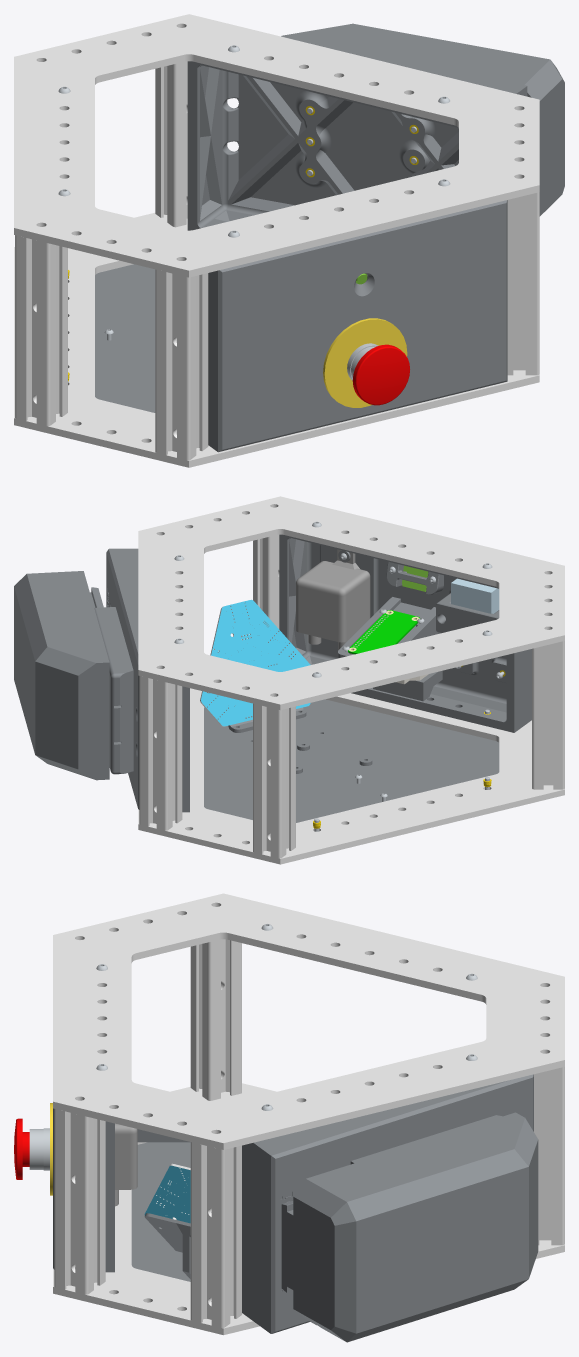
The model's file is Chassi-High-Quality.glb.
The picture shows the model from 3 angles, top to bottom: view 1: azimuth 30°, elevation 25°; view 2: azimuth 150°, elevation 25°; view 3: azimuth 270°, elevation 25°; orthographic projection. The views are drawn at different scales.
Visible parts, largest first — view 1: Part 1.002, Side Plate - EStop, Side Plate - Battery Mount, Part 1.001, battery, Part 2.003, Part 2.001, Bottom Chassis Plate, Part 2.005, Part 2.002, Part 2.006, Part 4; view 2: Part 1.002, Bottom Chassis Plate, Part 1.001, battery, Side Plate - EStop, Part 2.002, Part 2.004, COMPOUND.069, Relay, Side Plate - Battery Mount, Part 2.001, Mounting Surface (+6 smaller); view 3: Part 1.002, battery, Side Plate - Battery Mount, Part 2, Part 2.005, Part 2.001, Part 1.001, Part 2.002, Bottom Chassis Plate, COMPOUND.069, Side Plate - EStop, Relay (+4 smaller).
Boxes of the visible parts, x1,y1,x2,y2 form: Part 1.002: (14, 14, 539, 277); Side Plate - EStop: (208, 200, 507, 452); Side Plate - Battery Mount: (187, 54, 527, 230); Part 1.001: (14, 212, 539, 467); battery: (281, 23, 564, 216); Part 2.003: (155, 269, 208, 460); Part 2.001: (15, 235, 67, 426); Bottom Chassis Plate: (95, 264, 155, 412); Part 2.005: (507, 192, 539, 375); Part 2.002: (155, 61, 187, 227); Part 2.006: (323, 318, 407, 407); Part 4: (352, 344, 409, 405); Part 1.002: (138, 496, 564, 710); Bottom Chassis Plate: (204, 699, 499, 822); Part 1.001: (138, 688, 564, 864); battery: (14, 571, 109, 780); Side Plate - EStop: (279, 534, 531, 732); Part 2.002: (139, 676, 182, 830); Part 2.004: (253, 703, 295, 858); COMPOUND.069: (200, 599, 310, 726); Relay: (296, 549, 370, 649); Side Plate - Battery Mount: (106, 548, 189, 812); Part 2.001: (532, 641, 564, 789); Mounting Surface: (94, 607, 133, 774); Part 1.002: (53, 893, 564, 1149); battery: (281, 1112, 538, 1342); Side Plate - Battery Mount: (242, 1074, 533, 1333); Part 2: (190, 1142, 241, 1327); Part 2.005: (54, 1109, 105, 1294); Part 2.001: (190, 939, 241, 1100); Part 1.001: (53, 1083, 564, 1335); Part 2.002: (534, 1067, 564, 1245); Bottom Chassis Plate: (131, 1142, 190, 1281); COMPOUND.069: (144, 1163, 190, 1223); Side Plate - EStop: (53, 1108, 114, 1272); Relay: (115, 1123, 137, 1206).
Bounding box in the file's own units: 0.443 × 0.1451 × 0.3554.
